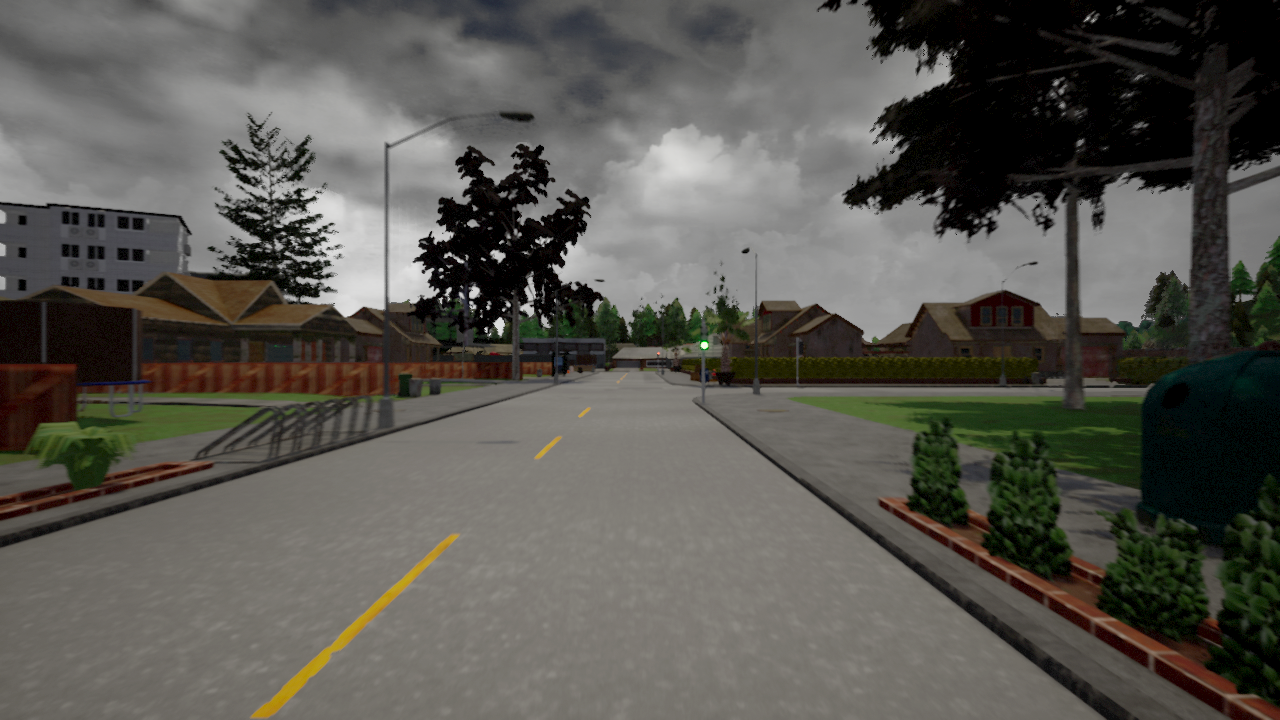green: (700, 324, 710, 349)
